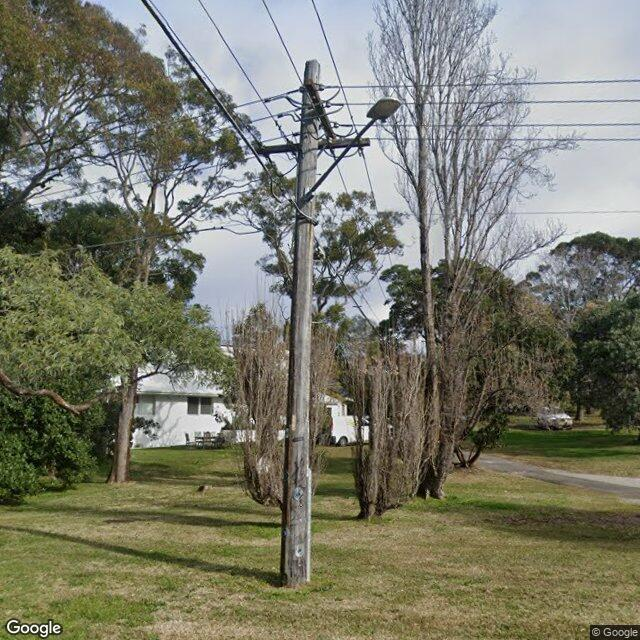crossarm: (256, 137, 372, 157), (304, 79, 336, 138)
streetlight: (302, 97, 403, 205)
timber-pole: (279, 57, 324, 585)
